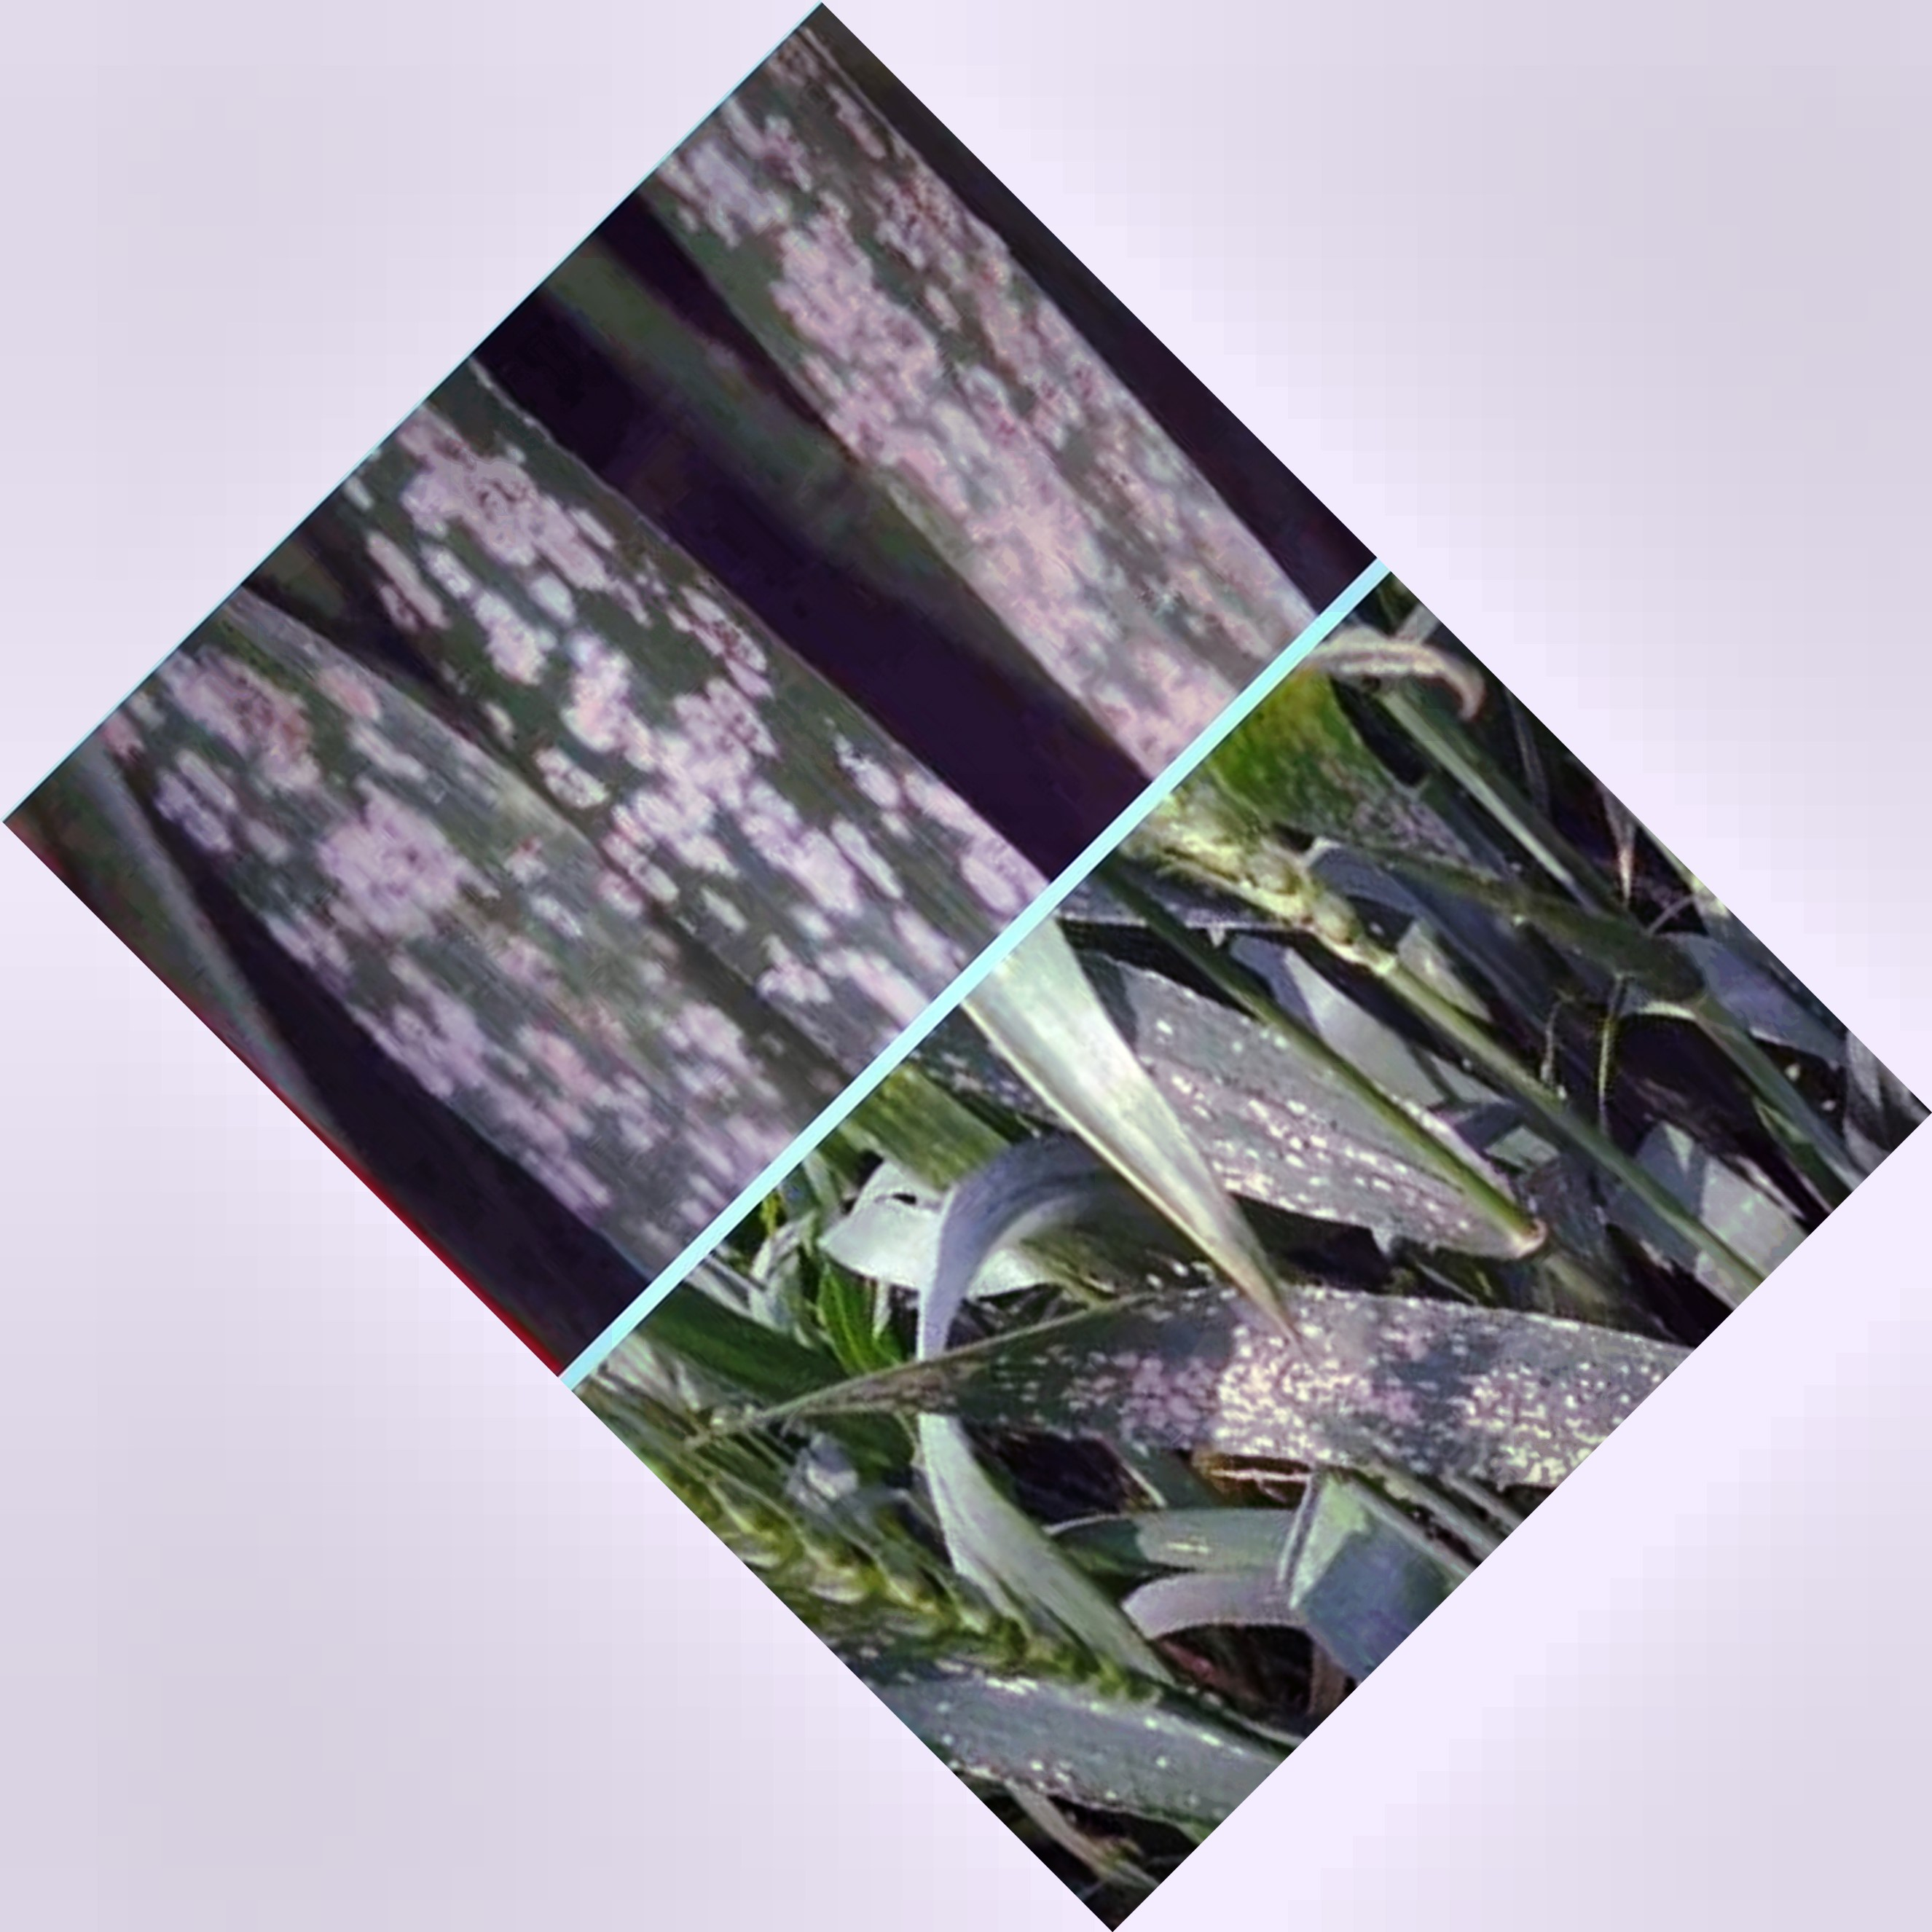Powdery Mildew: (395, 446, 998, 980), (1012, 1242, 1621, 1484)
